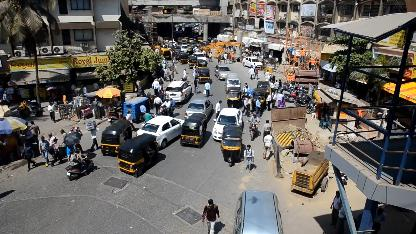auto-rikshaw: (120, 132, 162, 176), (102, 120, 132, 156), (180, 112, 208, 148), (223, 127, 244, 166), (251, 89, 265, 111), (226, 88, 242, 107), (196, 66, 212, 85), (258, 80, 270, 100)
bike: (66, 150, 95, 180), (247, 112, 262, 140)
car: (140, 115, 182, 147), (212, 106, 242, 142), (165, 82, 193, 102), (212, 64, 233, 80), (241, 56, 263, 70), (226, 75, 240, 87)
